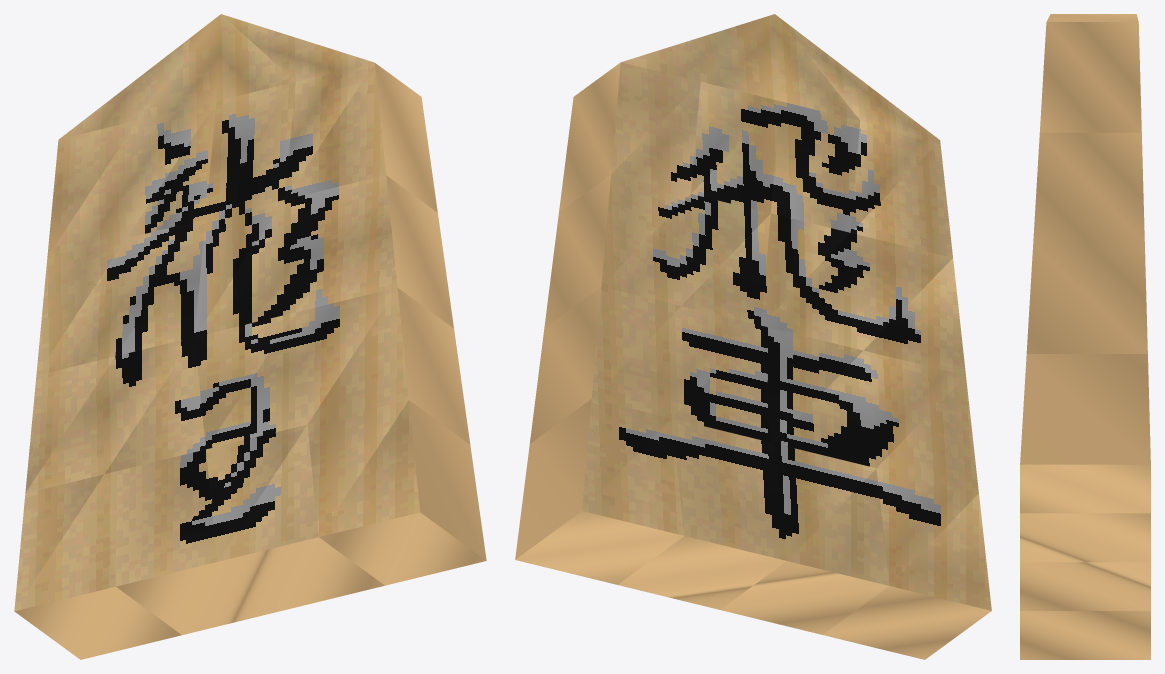
The model's file is ps2_save-icons_toudaishogishikenbishadojo-gamedata.glb.
3 views of the same model, side by side, from view 1: azimuth 30°, elevation 25°; view 2: azimuth 150°, elevation 25°; view 3: azimuth 270°, elevation 25° (orthographic). The views are drawn at different scales.
Parts seen in each view (by area): view 1: kifu.ico; view 2: kifu.ico; view 3: kifu.ico.
Part boxes in pixels (left/top/right/bottom): kifu.ico: left=14, top=14, right=486, bottom=659; kifu.ico: left=515, top=14, right=991, bottom=659; kifu.ico: left=1020, top=14, right=1150, bottom=659.
Size of the model in its own units: 3.14 by 4.09 by 0.8879.
Materials: 1 (1 with a texture image).
